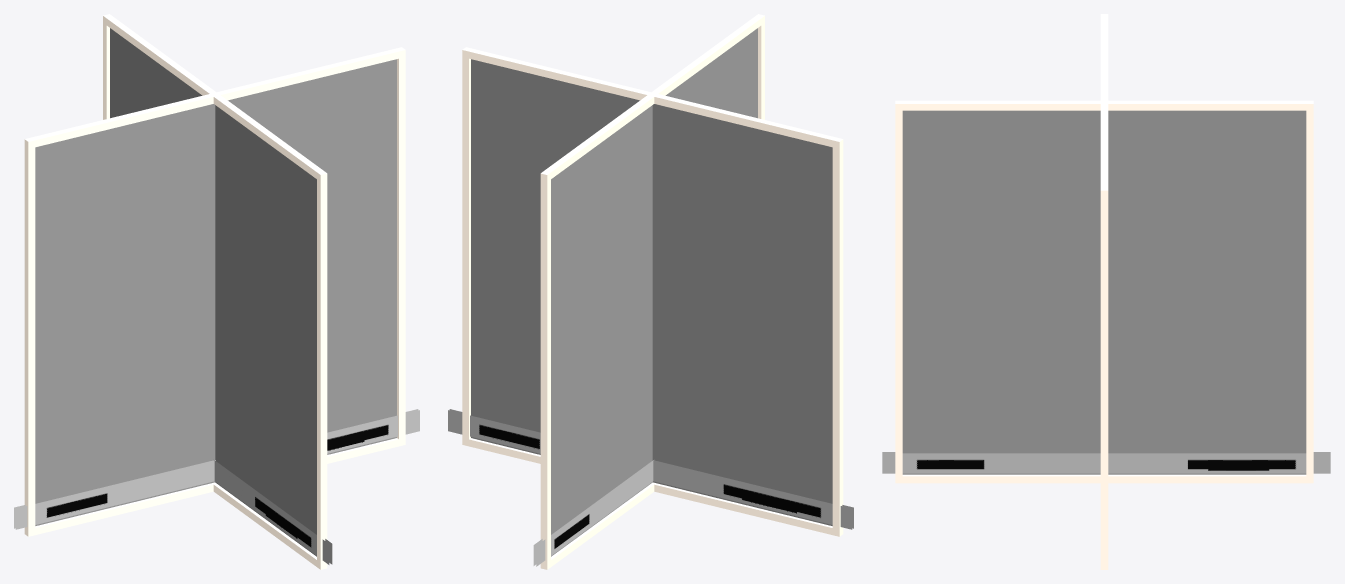
Rendered from DG-Assignment.fbx.
3 views of the same model, side by side, from view 1: azimuth 30°, elevation 25°; view 2: azimuth 150°, elevation 25°; view 3: azimuth 270°, elevation 25° (orthographic). The views are drawn at different scales.
Parts seen in each view (by area): view 1: Paint_back, Paint_front, Paint_front_1, Paint_back_1, DG2021_front, FrameL, FrameT, FrameL_1, FrameR, FrameT_1, FrameB, DG2021_back_1 (+2 smaller); view 2: Paint_back, Paint_front, Paint_back_1, Paint_front_1, DG2021_back, FrameL, FrameT, FrameR_1, FrameR, FrameT_1, FrameB, DG2021_back_1 (+2 smaller); view 3: Paint_front_1, Paint_back_1, DG2021_front_1, FrameT_1, FrameB_1, FrameR, FrameL_1, FrameR_1, FrameT.
Boxes of the visible parts, x1,y1,x2,y2 form: Paint_back: (35, 60, 396, 525); Paint_front: (35, 59, 396, 525); Paint_front_1: (110, 28, 316, 556); Paint_back_1: (110, 30, 316, 556); DG2021_front: (15, 410, 419, 529); FrameL: (24, 146, 35, 529); FrameT: (24, 47, 405, 148); FrameL_1: (317, 179, 327, 562); FrameR: (397, 57, 405, 439); FrameT_1: (103, 14, 327, 181); FrameB: (24, 438, 405, 536); DG2021_back_1: (214, 460, 329, 564); Paint_back: (471, 59, 832, 525); Paint_front: (471, 59, 832, 525); Paint_back_1: (551, 29, 757, 556); Paint_front_1: (551, 28, 757, 556); DG2021_back: (448, 410, 852, 529); FrameL: (832, 146, 843, 529); FrameT: (462, 47, 843, 148); FrameR_1: (540, 179, 550, 562); FrameR: (462, 57, 470, 439); FrameT_1: (540, 14, 764, 181); FrameB: (462, 438, 843, 536); DG2021_back_1: (536, 460, 653, 566); Paint_front_1: (902, 110, 1306, 474); Paint_back_1: (902, 110, 1306, 474); DG2021_front_1: (882, 453, 1330, 473); FrameT_1: (895, 100, 1313, 110); FrameB_1: (895, 474, 1313, 483); FrameR: (1100, 197, 1108, 563); FrameL_1: (895, 110, 902, 476); FrameR_1: (1306, 110, 1313, 476); FrameT: (1100, 14, 1108, 197).
Size of the model in its own units: 300 by 280 by 300.
